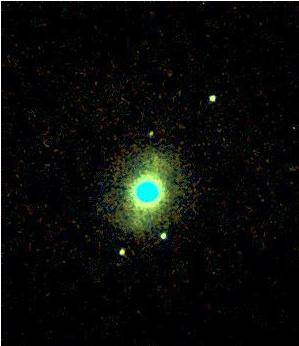star: (135, 118, 165, 148)
